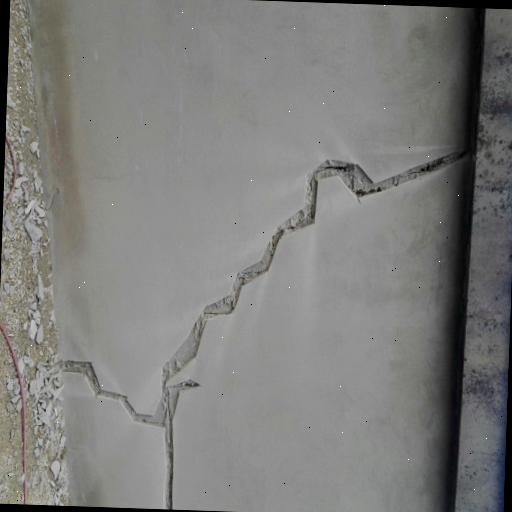spalling: (63, 137, 460, 503)
